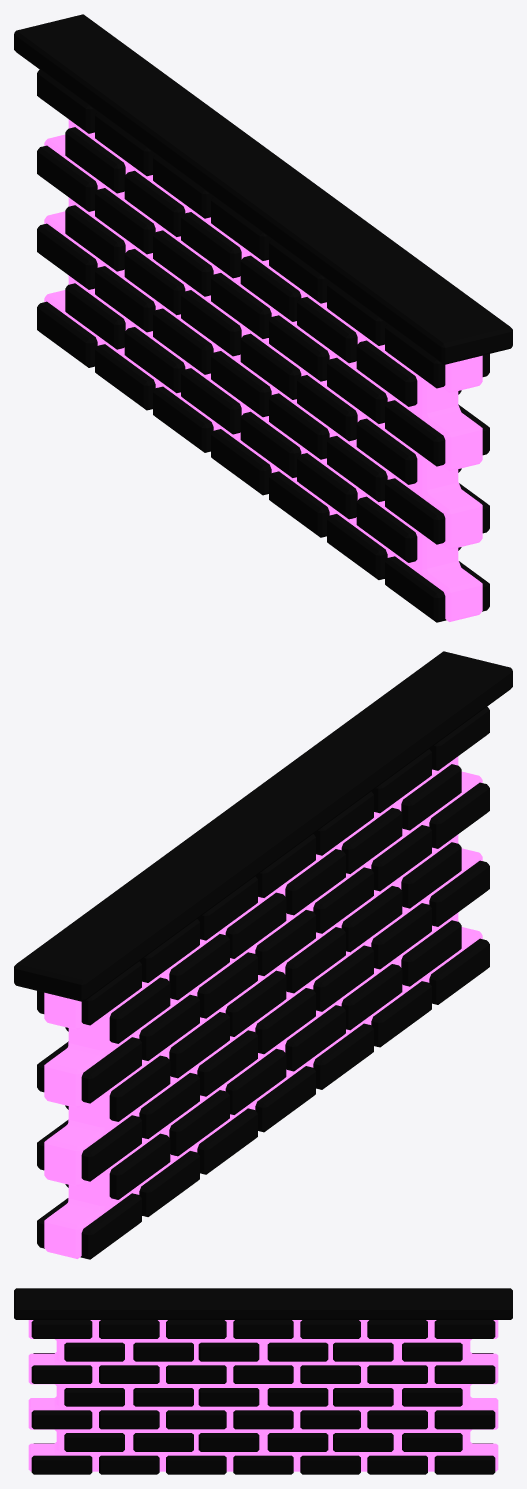
The model's file is Lvl 4 FireWall.fbx.
3 renders of one model, top to bottom at view 1: azimuth 30°, elevation 25°; view 2: azimuth 150°, elevation 25°; view 3: azimuth 270°, elevation 25°, orthographic. The views are drawn at different scales.
Parts seen in each view (by area): view 1: Firewall; view 2: Firewall; view 3: Firewall.
Part boxes in pixels (x1,y1,x2,y2): Firewall: [14, 14, 512, 622]; Firewall: [14, 651, 512, 1259]; Firewall: [14, 1288, 512, 1474].
Size of the model in its own units: 0.4375 by 1.71 by 4.55.
